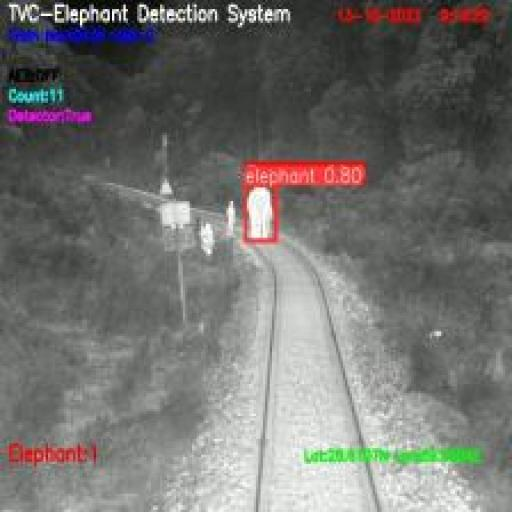Elephant: (244, 185, 276, 242)
